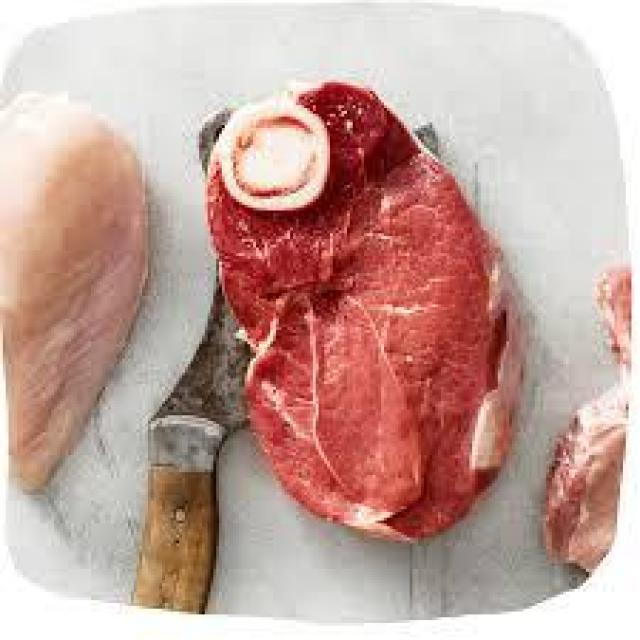Wet Waste: (242, 84, 539, 535)
